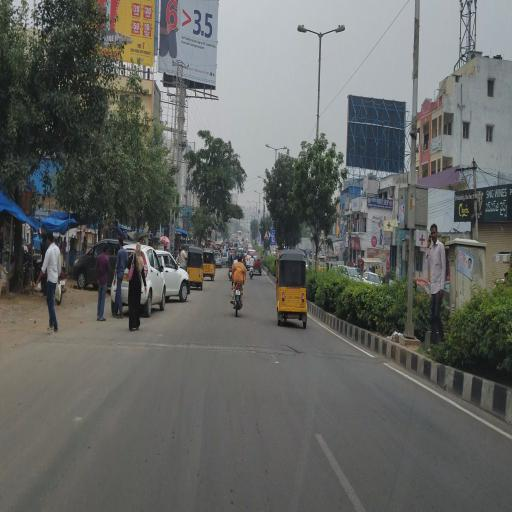street_light_0: (319, 15, 347, 41), (294, 14, 320, 40), (264, 136, 278, 152), (277, 141, 293, 155), (258, 167, 270, 183), (251, 183, 262, 195)
